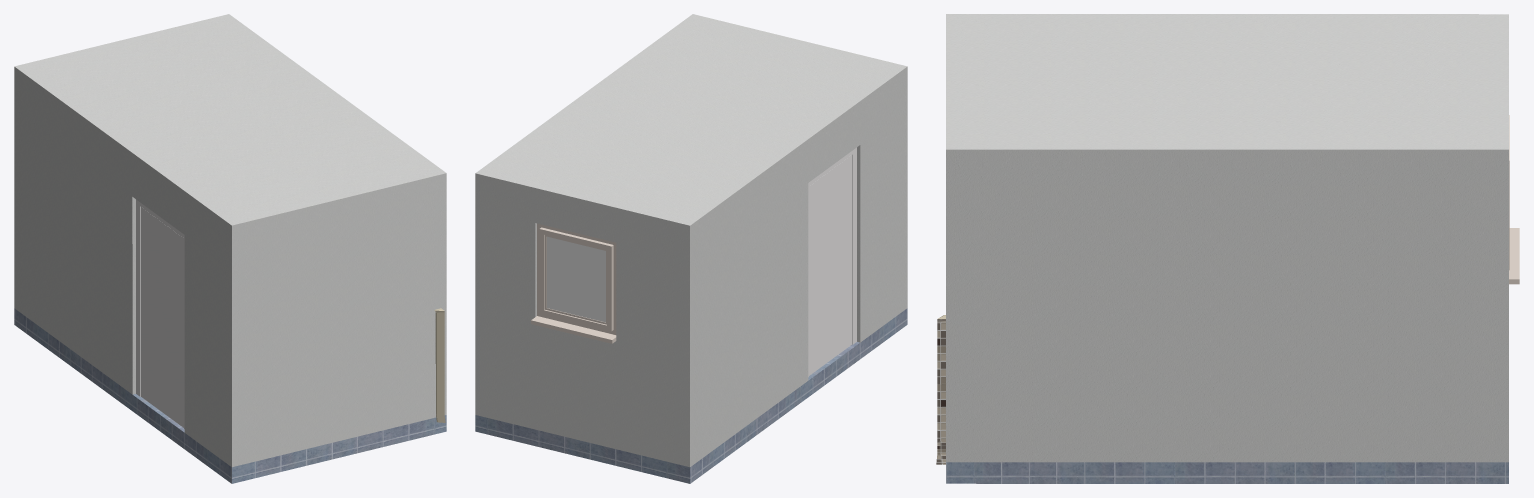
File: FloorPlan425_physics.fbx
3 renders of one model, left to right at view 1: azimuth 30°, elevation 25°; view 2: azimuth 150°, elevation 25°; view 3: azimuth 270°, elevation 25°, orthographic. The views are drawn at different scales.
Visible parts, largest first — view 1: FP425:Walls, FP425:Ceiling, FP425:Door.020, FP425:Floor, FP425:polySurface377, FP425:polySurface110; view 2: FP425:Walls, FP425:Ceiling, FP425:Door.020, FP425:Floor, FP425:polySurface110, FP425:polySurface112, FP425:polySurface377; view 3: FP425:Walls, FP425:Ceiling, FP425:Floor, FP425:polySurface110, FP425:polySurface112.
Boxes of the visible parts, bbox=[...] form: FP425:Walls: bbox=[14, 82, 446, 467]; FP425:Ceiling: bbox=[14, 14, 446, 240]; FP425:Door.020: bbox=[140, 207, 183, 427]; FP425:Floor: bbox=[14, 308, 446, 483]; FP425:polySurface377: bbox=[136, 199, 184, 428]; FP425:polySurface110: bbox=[434, 308, 445, 422]; FP425:Walls: bbox=[475, 82, 907, 467]; FP425:Ceiling: bbox=[475, 14, 907, 241]; FP425:Door.020: bbox=[809, 155, 851, 375]; FP425:Floor: bbox=[475, 308, 907, 483]; FP425:polySurface110: bbox=[547, 236, 605, 322]; FP425:polySurface112: bbox=[531, 223, 616, 343]; FP425:polySurface377: bbox=[808, 147, 856, 376]; FP425:Walls: bbox=[946, 169, 1508, 462]; FP425:Ceiling: bbox=[946, 14, 1508, 171]; FP425:Floor: bbox=[946, 462, 1508, 483]; FP425:polySurface110: bbox=[936, 315, 945, 464]; FP425:polySurface112: bbox=[1509, 115, 1519, 284].
Size of the model in its own units: 238 by 274 by 433.
